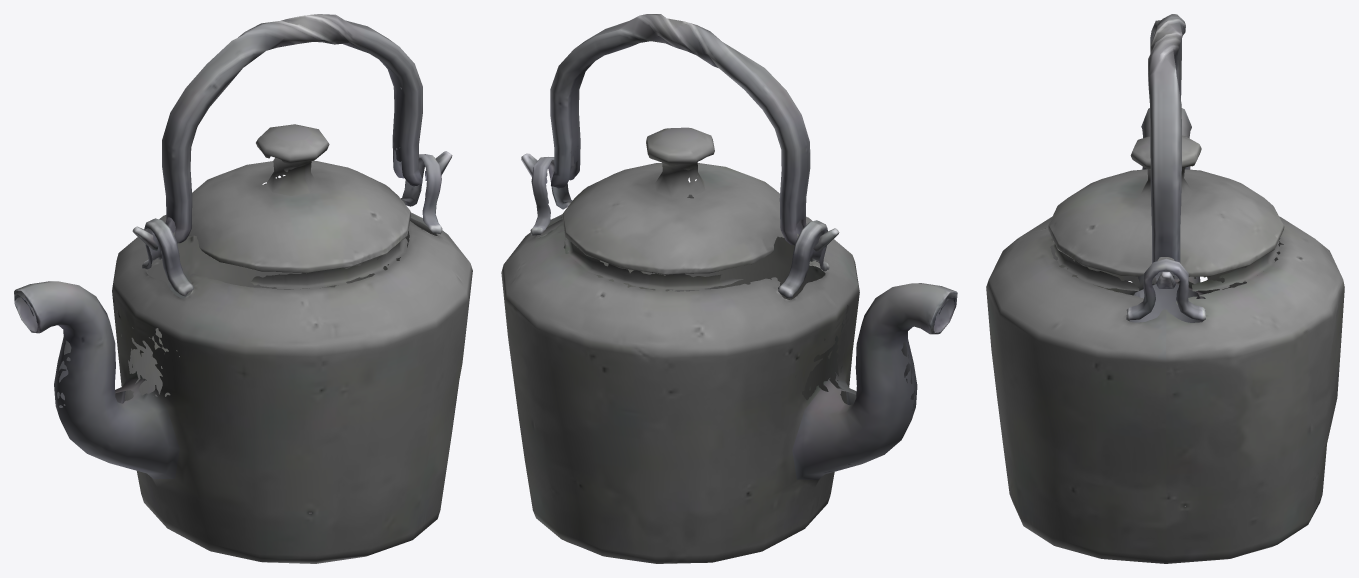
3 renders of one model, left to right at view 1: azimuth 30°, elevation 25°; view 2: azimuth 150°, elevation 25°; view 3: azimuth 270°, elevation 25°, orthographic.
Parts seen in each view (by area): view 1: SM_Cookware_CastIron_Teapot_01_LOD0; view 2: SM_Cookware_CastIron_Teapot_01_LOD0; view 3: SM_Cookware_CastIron_Teapot_01_LOD0.
Part boxes in pixels (left/top/right/bottom): SM_Cookware_CastIron_Teapot_01_LOD0: left=14, top=14, right=472, bottom=563; SM_Cookware_CastIron_Teapot_01_LOD0: left=501, top=14, right=957, bottom=563; SM_Cookware_CastIron_Teapot_01_LOD0: left=986, top=14, right=1344, bottom=563.
Size of the model in its own units: 0.4461 by 0.4819 by 0.3258.
1 material, 1 textured.
